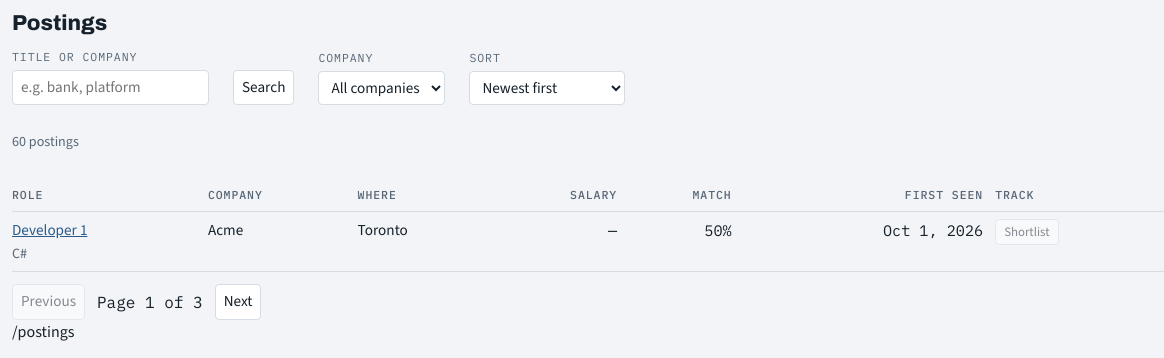
Postings page › pages through the results
Check: the text "Page 1 of 3" is shown, box [97,290,203,314]
Click the button "Next" at (238, 302), box [215,284,262,320]
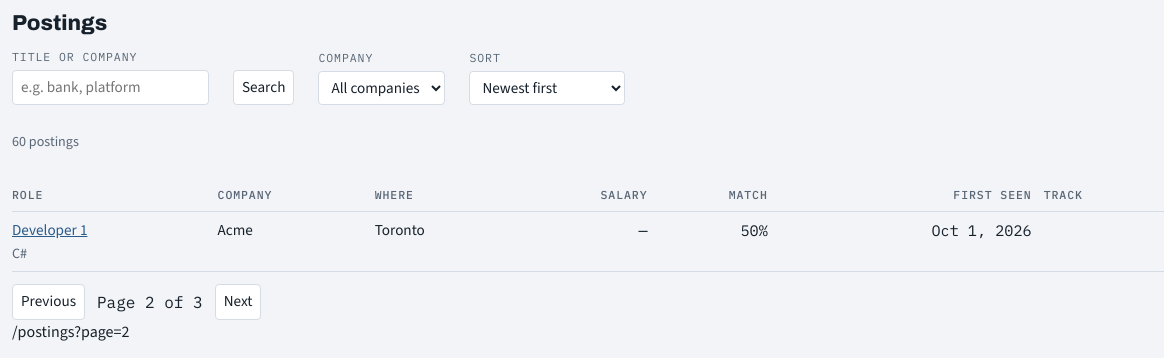
Check: the text "Page 2 of 3" is shown, box [97,290,203,314]
